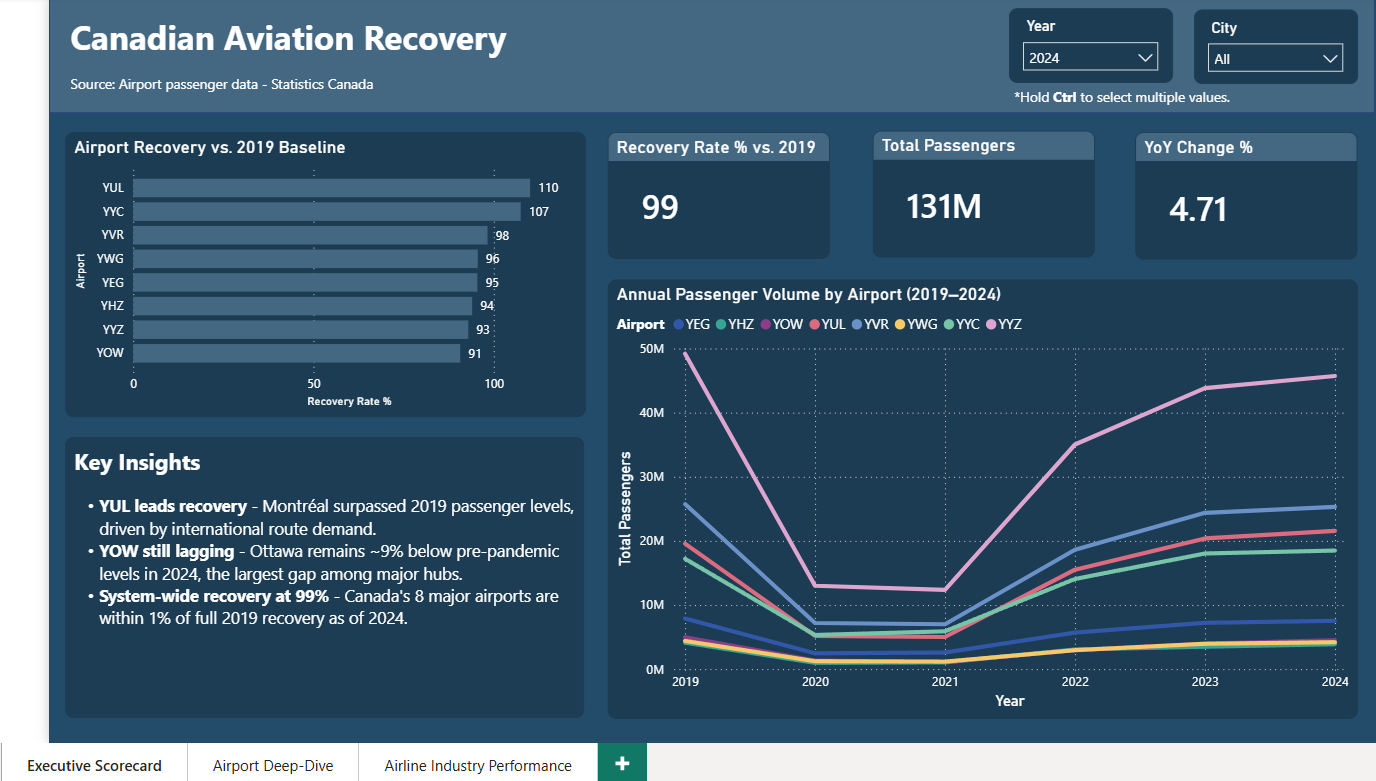

The dashboard page shown, as its layout file describes it:
{"tool":"powerbi","page":{"name":"Executive Scorecard","canvas":[1280,720],"ordinal":0},"visuals":[{"type":"shape","box":[0,0,1279.7,112.3],"z":0},{"type":"cardVisual","title":"Total Passengers","fields":{"Data":["fact_airport_annual.Total Passengers"]},"box":[795.6,129.1,214.7,122.1],"z":1000},{"type":"cardVisual","title":"Recovery Rate % vs. 2019","fields":{"Data":["fact_airport_annual.Recovery Rate %"]},"box":[538.8,130.5,214.7,122.1],"z":2000},{"type":"cardVisual","title":"YoY Change %","fields":{"Data":["fact_airport_annual.YoY Change %"]},"box":[1048.2,130.5,214.7,123.5],"z":3000},{"type":"slicer","fields":{"Values":["fact_airport_annual.year"]},"box":[926.5,10.9,158,72.4],"z":4000},{"type":"slicer","title":"City","fields":{"Values":["dim_airport.city"]},"box":[1105.1,12.1,158,72.4],"z":5000},{"type":"lineChart","title":"Annual Passenger Volume by Airport (2019–2024)","fields":{"Category":["fact_airport_annual.year"],"Y":["fact_airport_annual.Total Passengers"],"Series":["dim_airport.iata_code"]},"box":[538.8,272.2,724.1,423.8],"z":6000},{"type":"barChart","title":"Airport Recovery vs. 2019 Baseline","fields":{"Category":["dim_airport.iata_code"],"Y":["fact_airport_annual.Recovery Rate %"]},"box":[15.4,130.5,502.4,275],"z":7000},{"type":"textbox","title":"Canadian Aviation Recovery","box":[15.4,12.6,523.4,57.5],"z":8000},{"type":"textbox","box":[15.4,425.2,500.9,270.8],"z":9000},{"type":"textbox","box":[926.5,82,300.4,30.2],"z":10000},{"type":"textbox","box":[15.4,70.2,471.5,30.9],"z":11000}]}

Visuals, with their boxes on the page's 1280x720 design canvas (x1, y1, x2, y2). These are canvas units, not pixel positions in the 1376x781 screenshot, which may show the page scaled, cropped or inside an application window:
shape: (0, 0, 1280, 112)
"Total Passengers" cardVisual: (796, 129, 1010, 251)
"Recovery Rate % vs. 2019" cardVisual: (539, 130, 754, 253)
"YoY Change %" cardVisual: (1048, 130, 1263, 254)
slicer - fact_airport_annual.year: (926, 11, 1084, 83)
"City" slicer: (1105, 12, 1263, 84)
"Annual Passenger Volume by Airport (2019–2024)" lineChart: (539, 272, 1263, 696)
"Airport Recovery vs. 2019 Baseline" barChart: (15, 130, 518, 406)
"Canadian Aviation Recovery" textbox: (15, 13, 539, 70)
textbox: (15, 425, 516, 696)
textbox: (926, 82, 1227, 112)
textbox: (15, 70, 487, 101)
